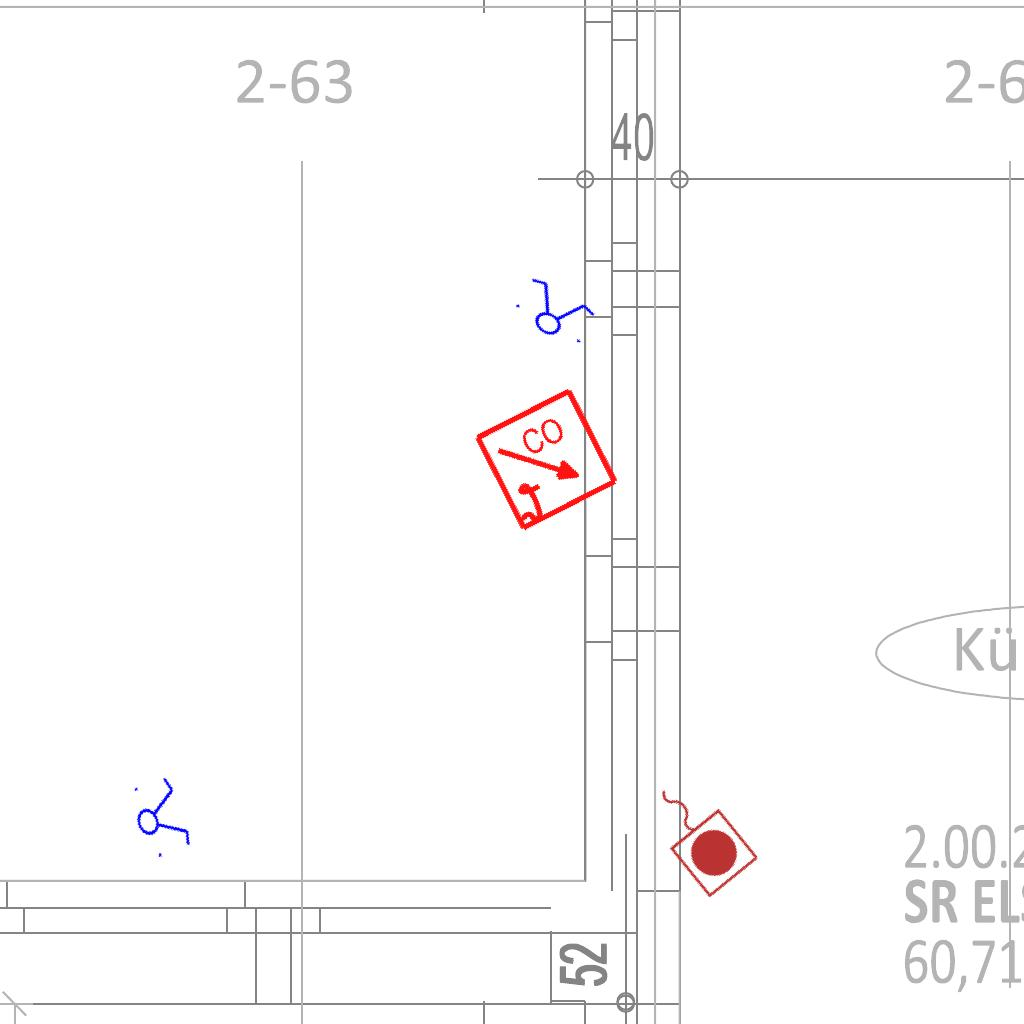ROA_Rauchmelder_optisch_mit_Signalgeber_(Sockelsirene): (471, 384, 624, 537)
Serienschalter: (505, 270, 603, 354), (123, 769, 197, 865)
Zugtaster: (632, 762, 766, 904)
